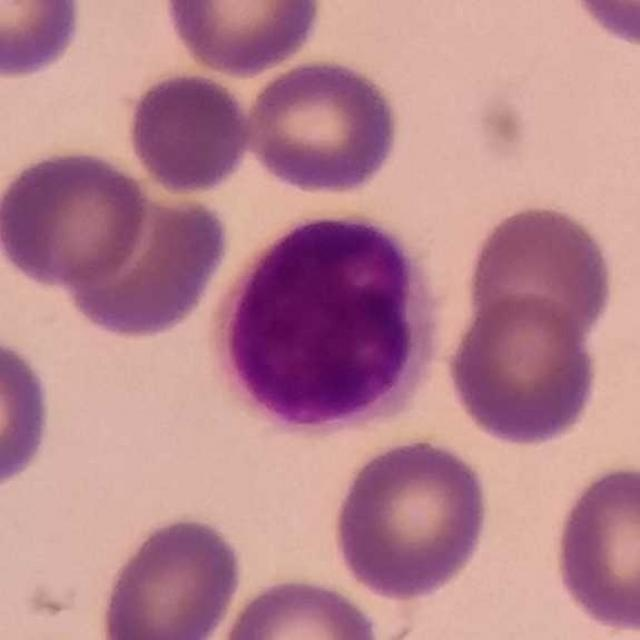Lymphocyte: (208, 205, 445, 441)
RBC: (327, 432, 494, 602), (52, 183, 232, 339), (442, 291, 602, 448), (460, 199, 619, 353), (239, 54, 404, 198), (0, 144, 151, 290), (96, 511, 245, 640), (123, 69, 255, 196), (548, 458, 640, 635), (160, 0, 328, 79), (215, 572, 386, 640), (0, 331, 57, 495), (0, 0, 87, 82), (560, 0, 640, 52)
